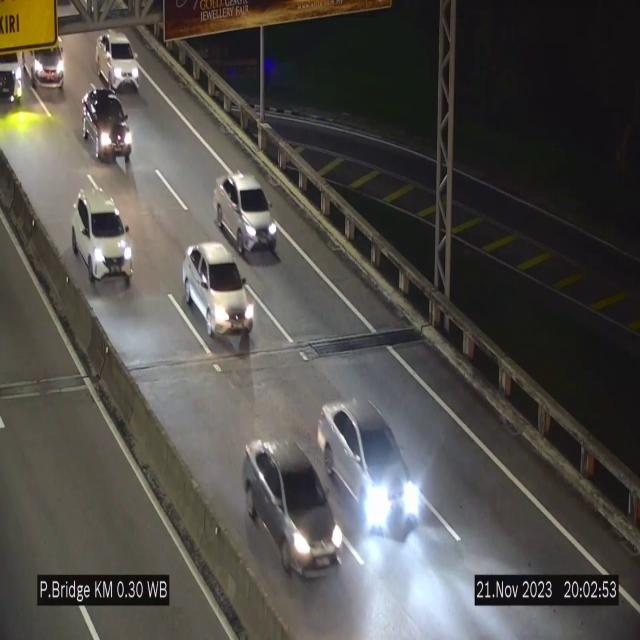Car: (245, 438, 346, 595), (322, 396, 422, 538), (183, 242, 254, 341), (72, 188, 132, 282), (214, 173, 278, 256), (80, 87, 134, 166), (96, 29, 140, 91)
